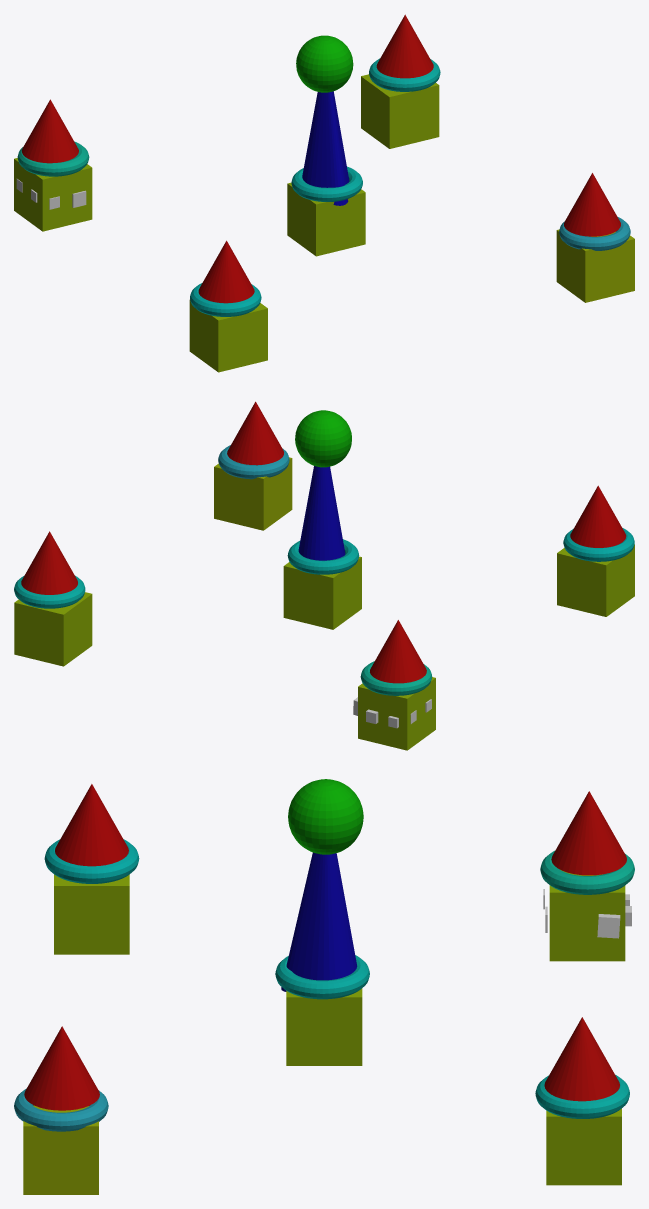
Rendered from erstes_projekt2.obj.
The picture shows the model from 3 angles, top to bottom: view 1: azimuth 30°, elevation 25°; view 2: azimuth 150°, elevation 25°; view 3: azimuth 270°, elevation 25°; orthographic projection. The views are drawn at different scales.
Parts seen in each view (by area): view 1: Cube.001, Cube.003_Cube.002, Cube, Cube.004, Cube.002_Cube.001, Cone, Sphere, Cone.002, Cone.004, Cone.003, Cone.001, Torus (+4 smaller); view 2: Cube.001, Cube, Cube.003_Cube.002, Cube.004, Cube.002_Cube.001, Cone, Sphere, Cone.002, Cone.004, Cone.003, Cone.001, Torus (+4 smaller); view 3: Cone, Cube.003_Cube.002, Cube, Cube.001, Cube.004, Cube.002_Cube.001, Sphere, Cone.002, Cone.004, Cone.003, Cone.001, Torus (+4 smaller).
Boxes of the visible parts, x1,y1,x2,y2 form: Cube.001: [361, 74, 439, 148]; Cube.003_Cube.002: [189, 300, 267, 372]; Cube: [287, 182, 365, 256]; Cube.004: [556, 229, 634, 302]; Cube.002_Cube.001: [14, 158, 92, 231]; Cone: [302, 91, 349, 205]; Sphere: [296, 35, 353, 92]; Cone.002: [21, 99, 78, 163]; Cone.004: [564, 173, 620, 236]; Cone.003: [376, 14, 433, 78]; Cone.001: [198, 240, 254, 303]; Torus: [291, 166, 362, 201]; Cube.001: [14, 592, 92, 666]; Cube: [283, 556, 361, 629]; Cube.003_Cube.002: [557, 544, 634, 616]; Cube.004: [214, 457, 292, 530]; Cube.002_Cube.001: [358, 677, 435, 750]; Cone: [298, 466, 345, 560]; Sphere: [295, 410, 351, 467]; Cone.002: [370, 620, 426, 683]; Cone.004: [227, 401, 283, 465]; Cone.003: [21, 531, 77, 594]; Cone.001: [570, 485, 626, 547]; Torus: [287, 539, 359, 574]; Cone: [281, 852, 357, 991]; Cube.003_Cube.002: [54, 874, 129, 954]; Cube: [286, 988, 362, 1065]; Cube.001: [546, 1108, 621, 1185]; Cube.004: [23, 1105, 98, 1194]; Cube.002_Cube.001: [549, 869, 625, 961]; Sphere: [288, 779, 363, 854]; Cone.002: [551, 791, 626, 875]; Cone.004: [24, 1026, 99, 1110]; Cone.003: [544, 1017, 619, 1101]; Cone.001: [55, 784, 128, 866]; Torus: [275, 955, 369, 999].
Size of the model in its own units: 17.19 by 8.34 by 16.4.
